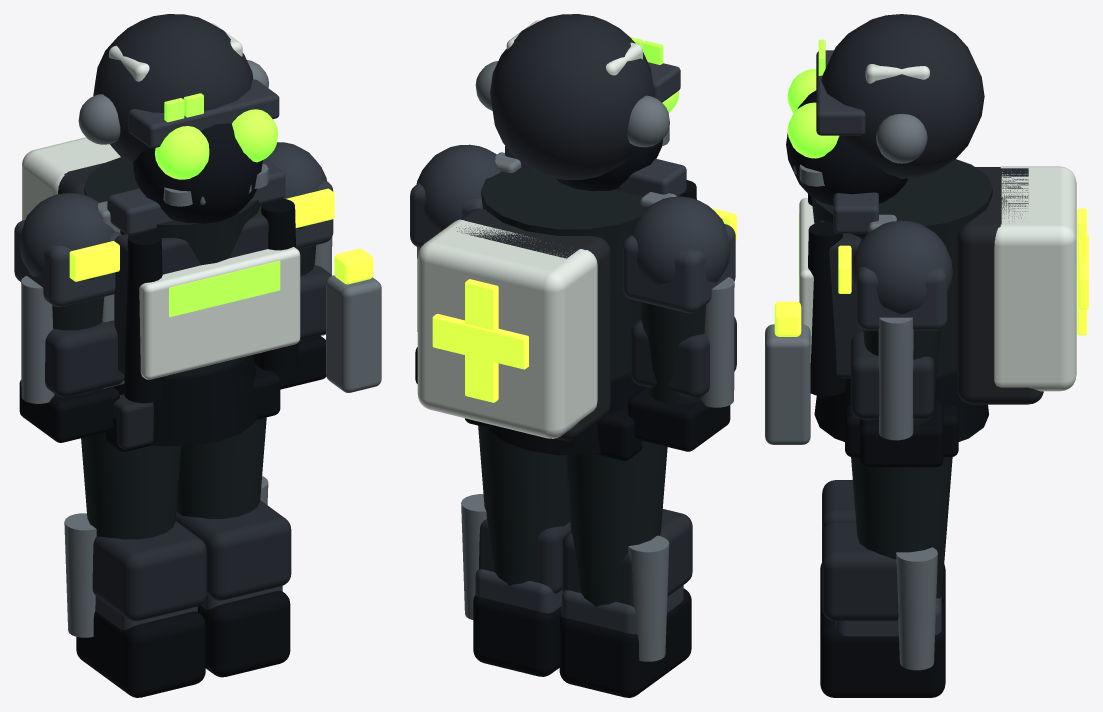
File: medic_l02.glb
The picture shows the model from 3 angles, left to right: view 1: azimuth 30°, elevation 25°; view 2: azimuth 150°, elevation 25°; view 3: azimuth 270°, elevation 25°; orthographic projection. The views are drawn at different scales.
Visible parts, largest first — view 1: shaped_knee_guard (×2), trouser (×2), boot (×2), reinforced_vest, rounded_helmet, waist_flex, enclosed_mask, shoulder_joint (×2), forearm_plate (×2), vest_tether (×2), aid_injector, glove (×2) (+21 smaller); view 2: medical_pack, trouser (×2), rounded_helmet, boot (×2), body, shoulder_joint (×2), shin_frame (×2), shaped_knee_guard (×2), shoulder_plate (×2), field_pack, shin_plate (×2), glove (+12 smaller); view 3: medical_pack, rounded_helmet, field_pack, trouser, shaped_knee_guard (×2), body, boot, shoulder_joint, aid_injector, shin_frame, vest_tether, forearm_seam (+20 smaller).
Part boxes in pixels (box(x1,y1,x2,y2)): shaped_knee_guard (×2): box(92, 500, 291, 621); trouser (×2): box(81, 417, 266, 539); boot (×2): box(76, 591, 290, 697); reinforced_vest: box(139, 247, 300, 379); rounded_helmet: box(93, 14, 253, 164); waist_flex: box(113, 355, 257, 446); enclosed_mask: box(133, 123, 262, 223); shoulder_joint (×2): box(19, 142, 326, 280); forearm_plate (×2): box(45, 265, 331, 397); vest_tether (×2): box(124, 198, 298, 403); aid_injector: box(326, 275, 381, 392); glove (×2): box(19, 335, 326, 442); medical_pack: box(417, 219, 597, 438); trouser (×2): box(478, 425, 667, 606); rounded_helmet: box(490, 14, 654, 180); boot (×2): box(473, 588, 691, 697); body: box(481, 167, 647, 379); shoulder_joint (×2): box(416, 144, 730, 285); shin_frame (×2): box(461, 494, 669, 661); shaped_knee_guard (×2): box(479, 509, 692, 606); shoulder_plate (×2): box(410, 183, 735, 313); field_pack: box(456, 208, 610, 440); shin_plate (×2): box(475, 569, 683, 634); glove: box(628, 387, 730, 451); medical_pack: box(994, 166, 1076, 391); rounded_helmet: box(821, 14, 984, 178); field_pack: box(957, 167, 1043, 404); trouser: box(851, 457, 952, 598); shaped_knee_guard (×2): box(822, 480, 898, 621); body: box(811, 159, 992, 376); boot: box(820, 602, 945, 697); shoulder_joint: box(851, 220, 952, 314); aid_injector: box(765, 324, 810, 444); shin_frame: box(896, 547, 937, 670); vest_tether: box(808, 222, 846, 396); forearm_seam: box(878, 317, 913, 440).
Size of the model in its own units: 0.9406 by 1.86 by 0.8525.
